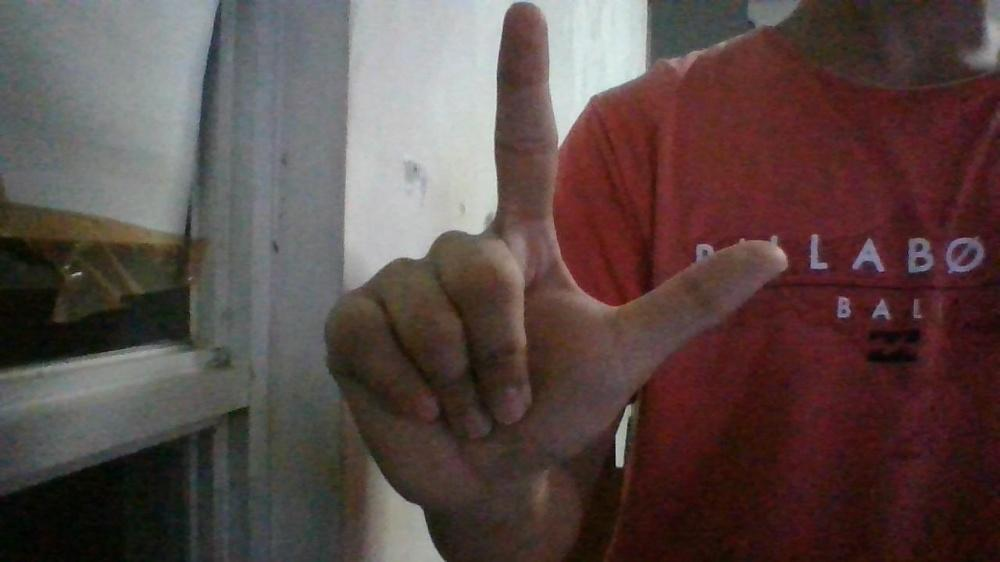l: (320, 0, 790, 509)
